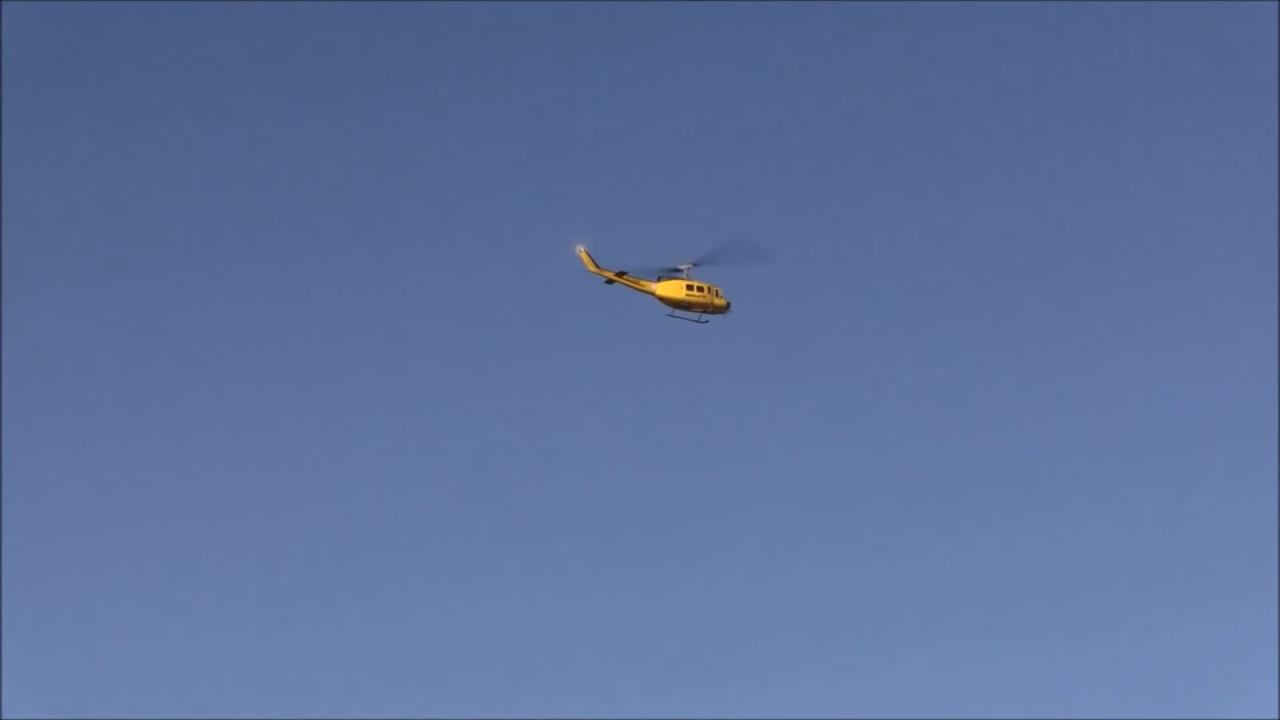Helicopter: (547, 200, 811, 364)
